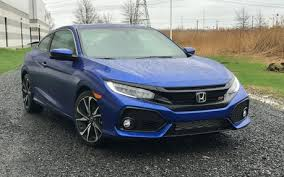Honda: (20, 23, 251, 145)
